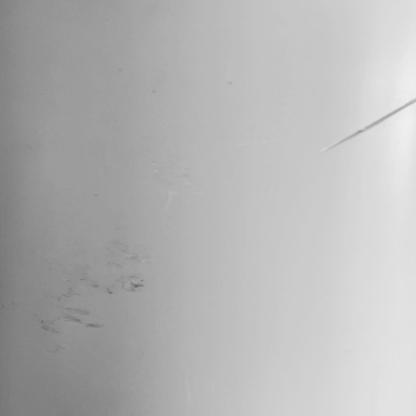sunshang: (323, 99, 416, 150)
